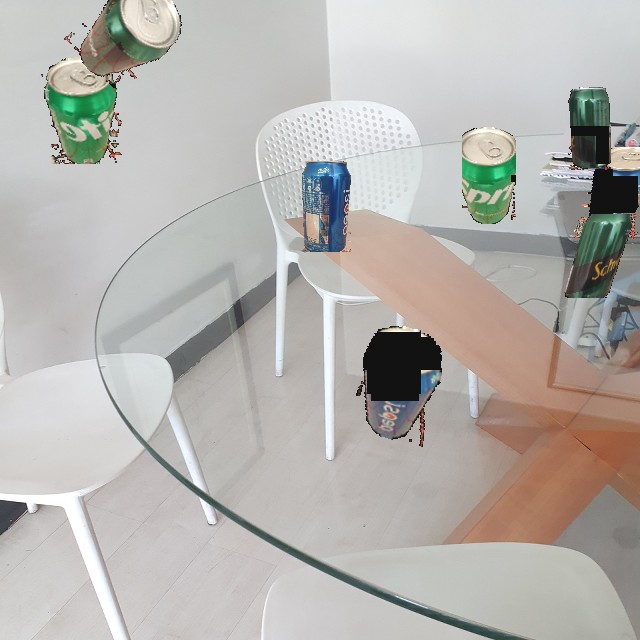pepsi: (341, 314, 457, 452), (574, 147, 640, 239), (302, 161, 351, 252)
schweppes: (63, 0, 194, 97), (562, 214, 635, 298), (567, 86, 611, 170)
sprite: (40, 55, 124, 164), (462, 126, 516, 224)
